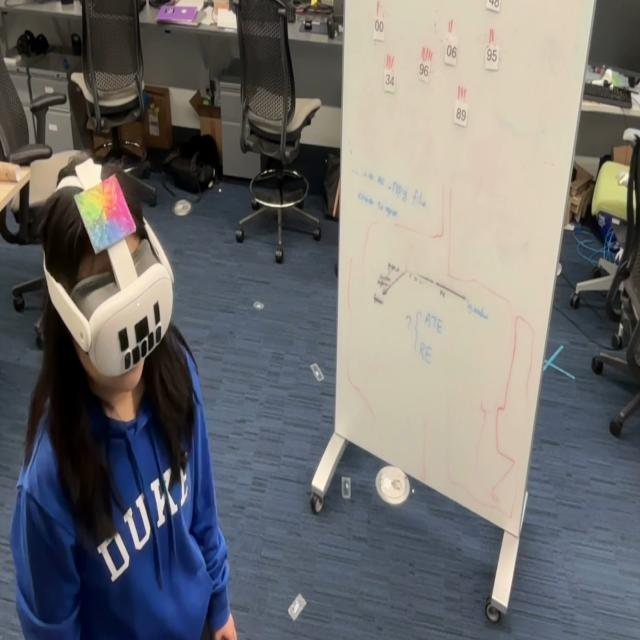Headset: (42, 156, 174, 378)
Marker: (76, 185, 140, 262)
